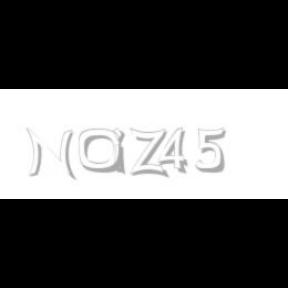4: (158, 128, 188, 174)
5: (194, 128, 225, 174)
N: (25, 128, 74, 180)
O: (78, 128, 124, 174)
Z: (130, 128, 166, 178)
i: (113, 128, 129, 176)
